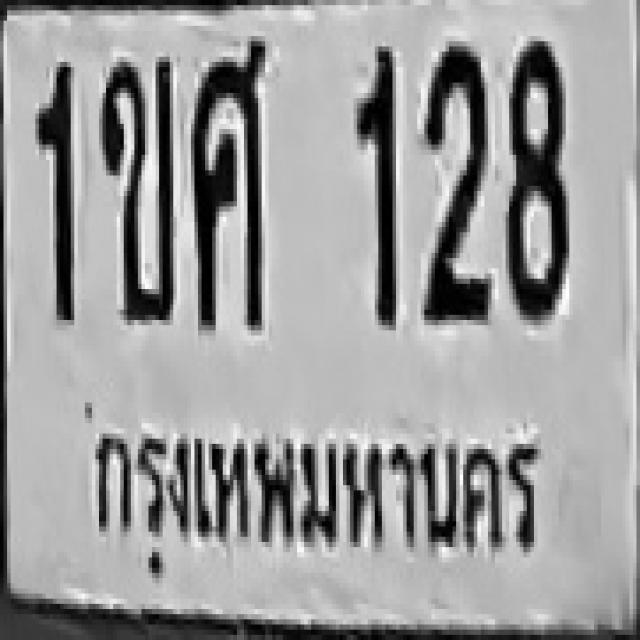1: (354, 47, 396, 330), (34, 60, 72, 322)
11KhorKhai: (99, 52, 173, 320)
2: (421, 41, 488, 320)
47SorSala: (189, 36, 267, 325)
8: (504, 36, 567, 320)
Bangkok: (75, 404, 542, 586)
